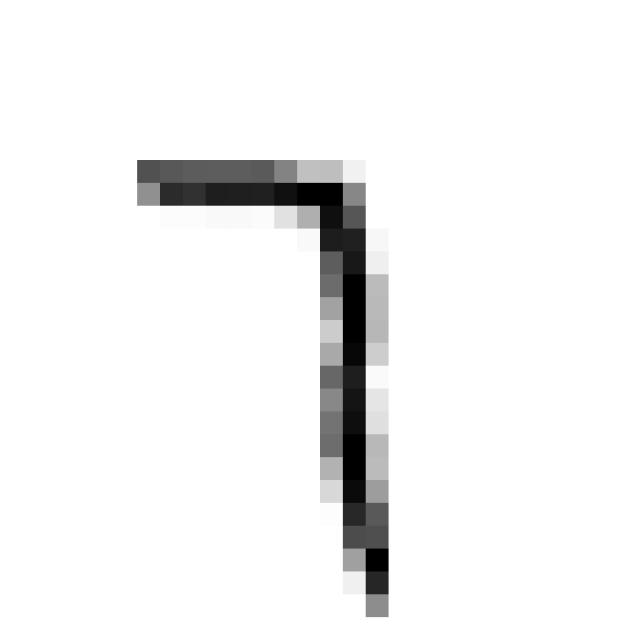6 -six-: (119, 137, 404, 632)
